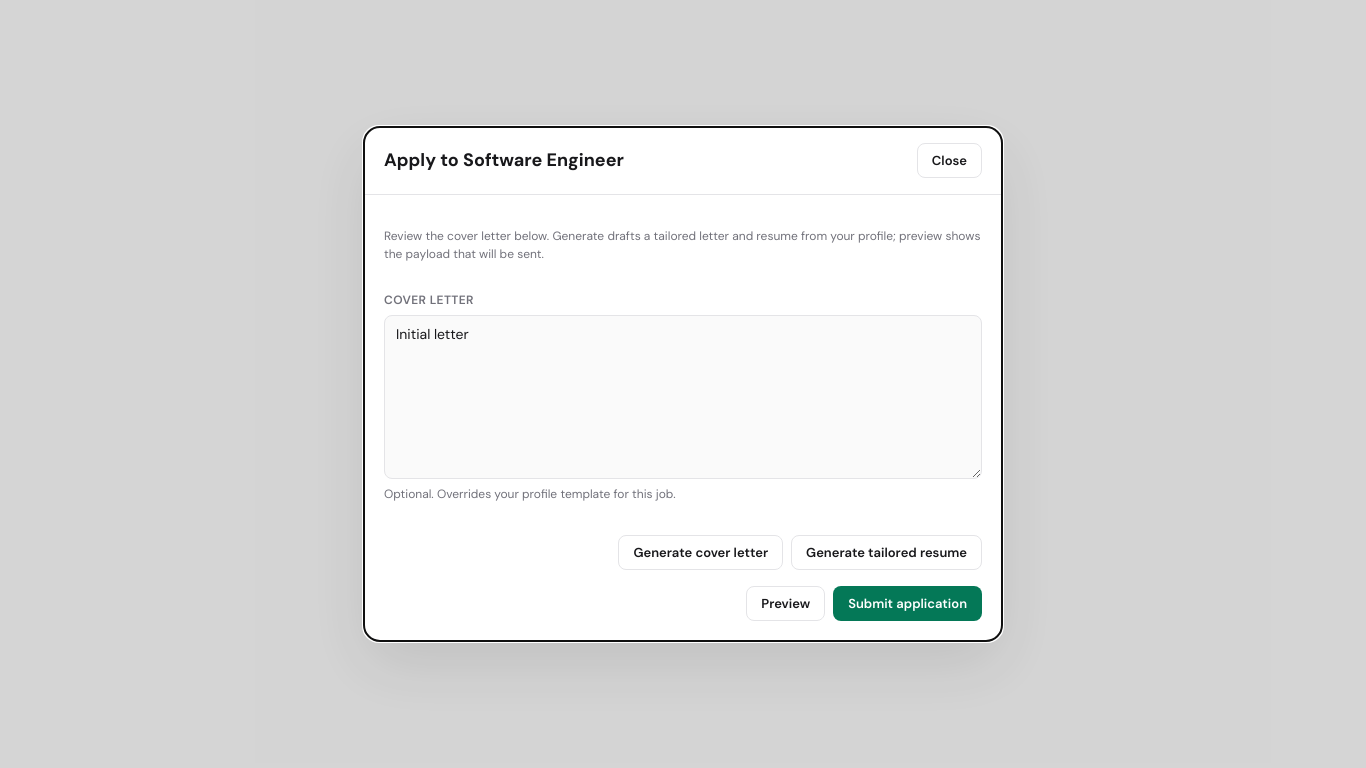
Scenario: ApplyJobDialog › generates a cover letter from an AI provider
Click the button "Generate cover letter".
click(701, 552)  # box [618, 535, 783, 570]
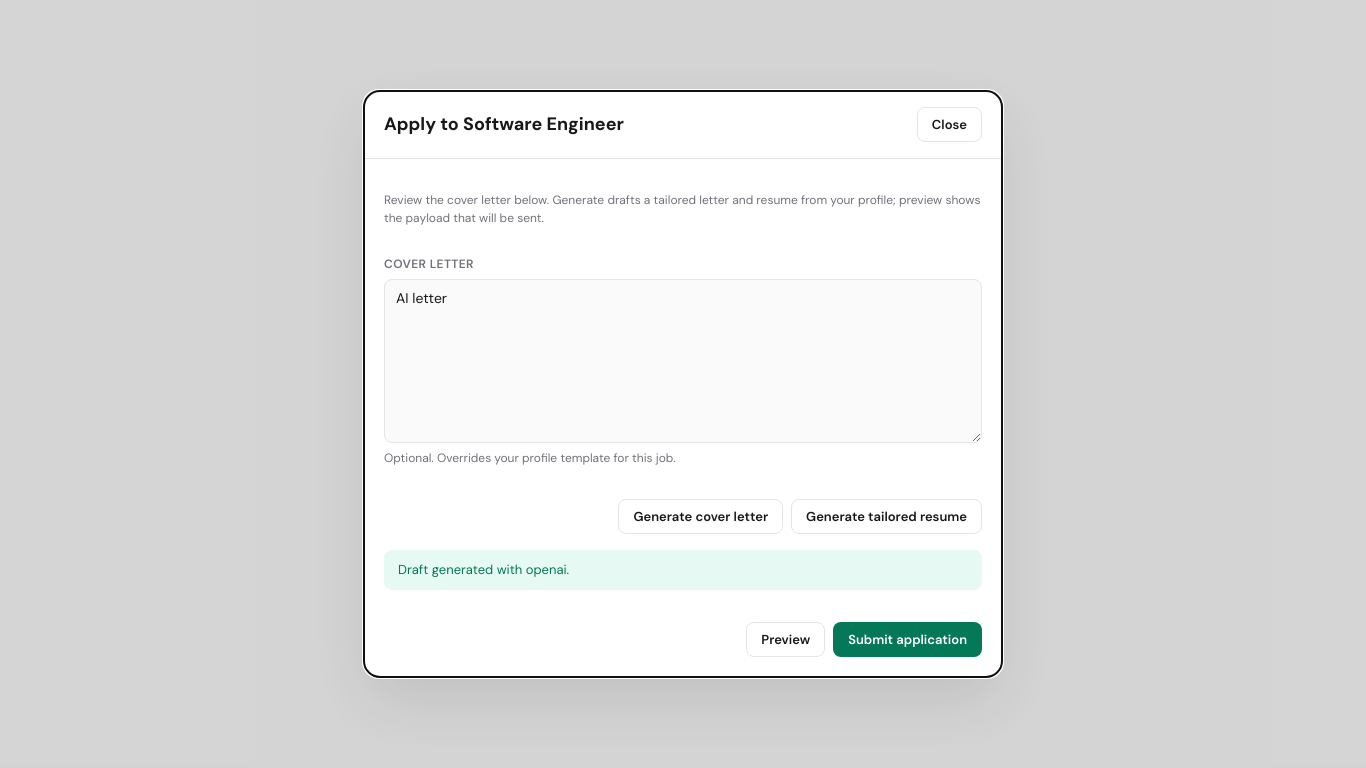
Expected: the text box holds "AI letter", [384, 279, 982, 443]
Expected: the text "Draft generated with openai." is shown, [384, 550, 982, 590]
